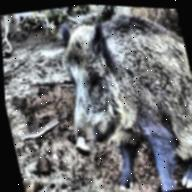boar: (31, 2, 192, 192)
